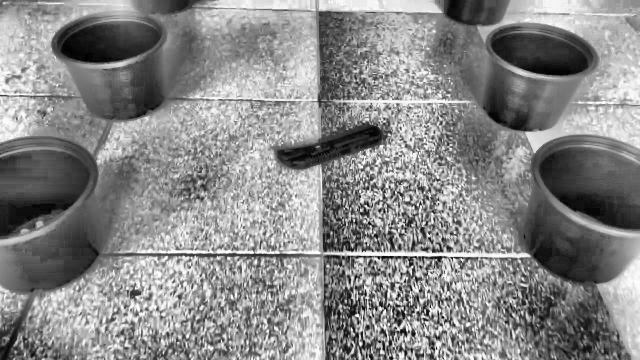pot: (522, 134, 640, 296), (0, 137, 106, 294), (52, 12, 168, 122), (480, 24, 598, 132)
